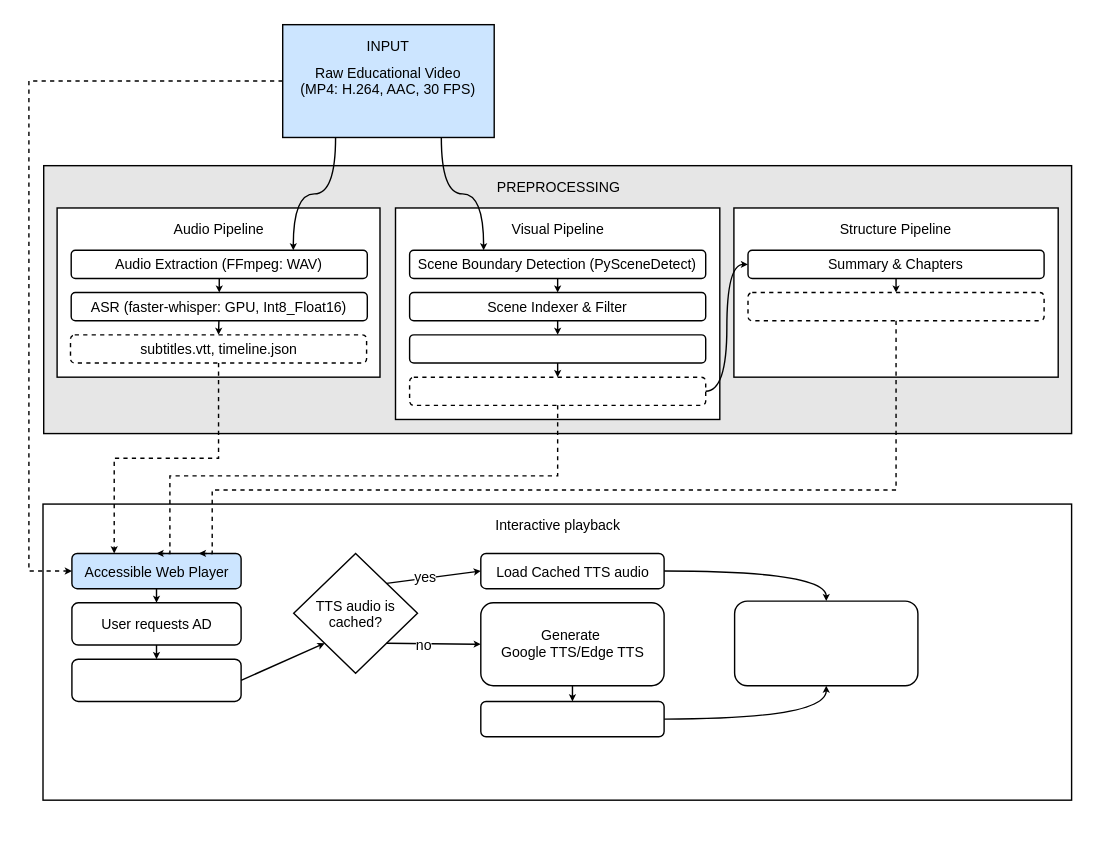
Image size: 1097x850. Some labels were removed from this diagram. The shapes that lost their labels are listed below. From the top down, each one's centre as x and y in pixels, then its label:
(x=895, y=306): summary.json
(x=557, y=348): Multimodal Description (Gemini 2.5 Flash)
(x=557, y=390): scene_index.json
(x=825, y=643): Pause video → Play scene description → Resume
(x=155, y=679): Search for nearest indexed scene (<= 30 s)
(x=571, y=718): Save to cache
